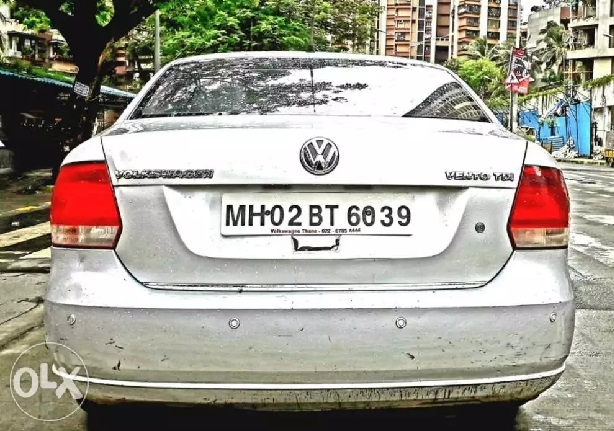licenseplate: (217, 191, 417, 238)
